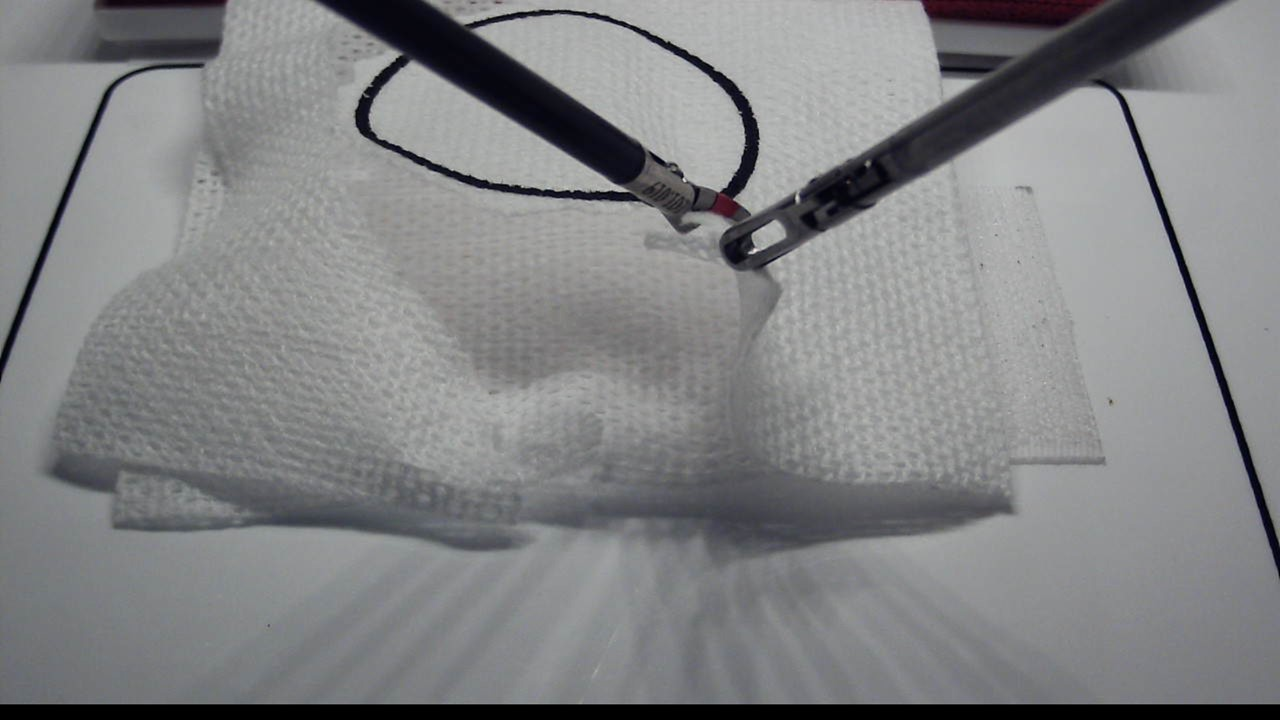Circle: (354, 10, 760, 205)
Grasper: (718, 185, 828, 273)
Scissor: (661, 181, 765, 235)
